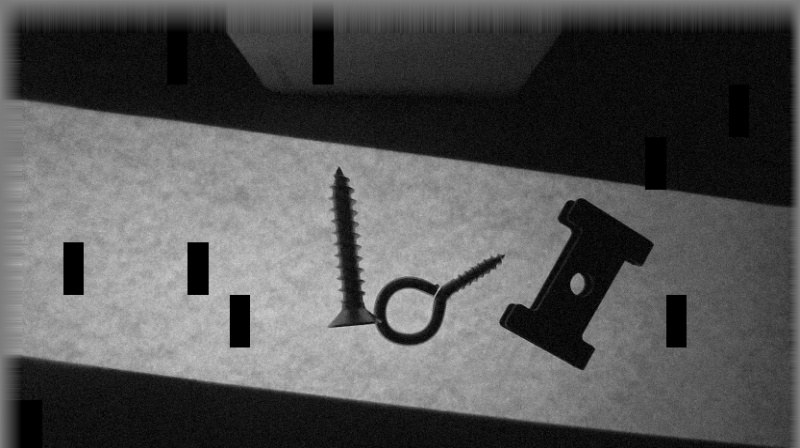O001: (372, 252, 507, 346)
O002: (501, 194, 654, 373)
S001: (325, 166, 381, 332)
